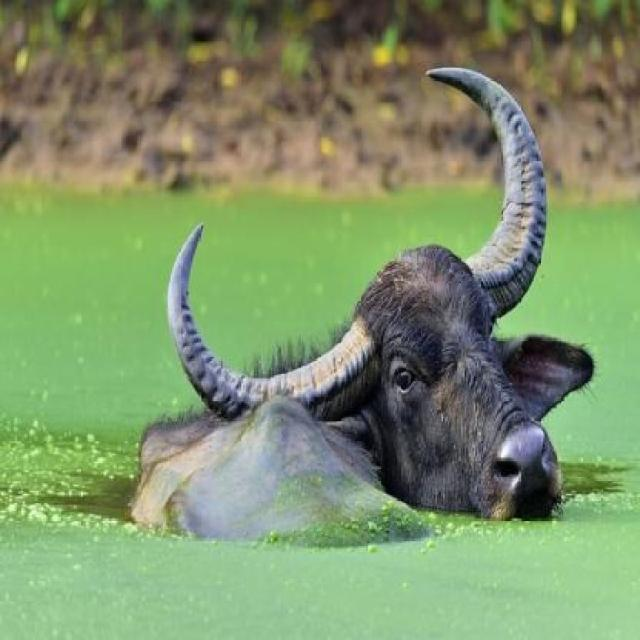buffalo: (260, 212, 566, 523)
